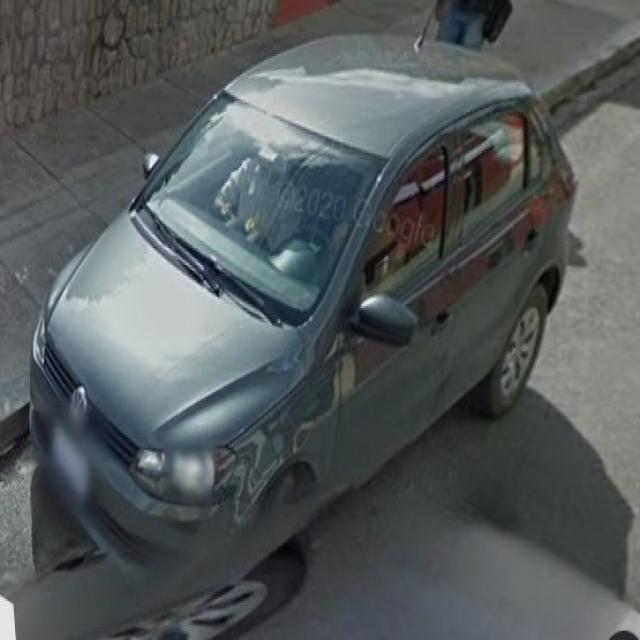cars: (35, 32, 572, 589)
